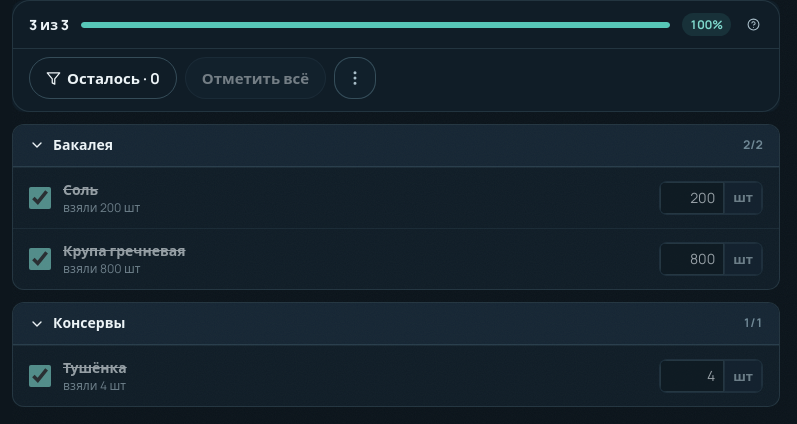
Test: ChecklistTab — подтверждение массовых действий (подзадача 7) › кнопки заблокированы, когда действие бессмысленно
The width and height of the screenshot is (797, 424).
Expected: the button with test id "checklist-all" is disabled, [185,57,326,99]
Click the button with test id "checklist-kebab": (355,78) [334,57,376,99]
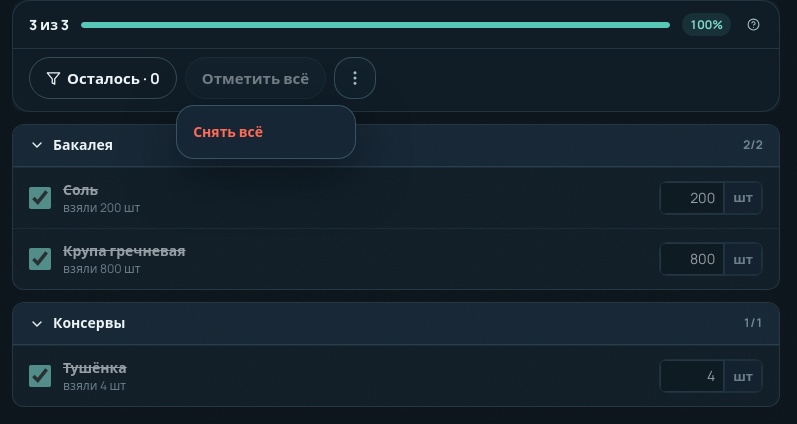
Expected: the menu item with test id "checklist-none" is enabled, [181,110,351,154]
